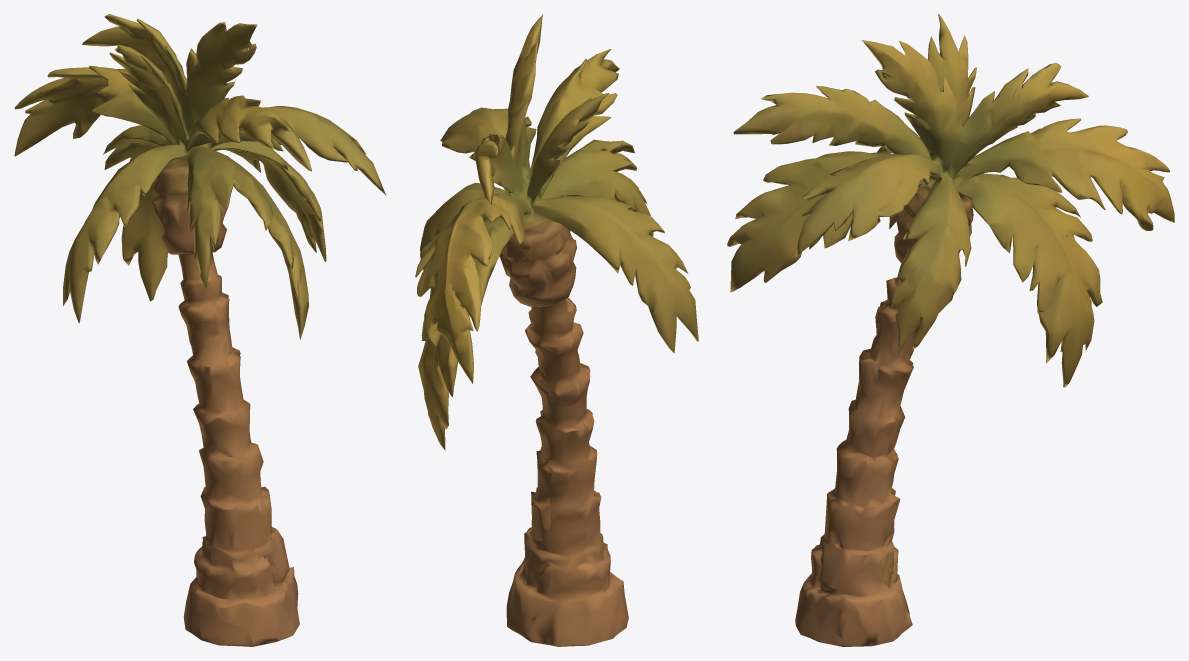
The model's file is palm+tree+3d+model (2).glb.
3 views of the same model, side by side, from view 1: azimuth 30°, elevation 25°; view 2: azimuth 150°, elevation 25°; view 3: azimuth 270°, elevation 25° (orthographic). The views are drawn at different scales.
Parts seen in each view (by area): view 1: tripo_node_fb08ee41-821a-4a09-ad30-89c5a60bd64b; view 2: tripo_node_fb08ee41-821a-4a09-ad30-89c5a60bd64b; view 3: tripo_node_fb08ee41-821a-4a09-ad30-89c5a60bd64b.
Part boxes in pixels (x1,y1,x2,y2): tripo_node_fb08ee41-821a-4a09-ad30-89c5a60bd64b: (14,14,386,646); tripo_node_fb08ee41-821a-4a09-ad30-89c5a60bd64b: (415,14,698,646); tripo_node_fb08ee41-821a-4a09-ad30-89c5a60bd64b: (727,14,1174,646).
Bounding box in the file's own units: 0.4768 × 1 × 0.6845.
1 material, 1 textured.
